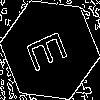E: (25, 25, 76, 74)
